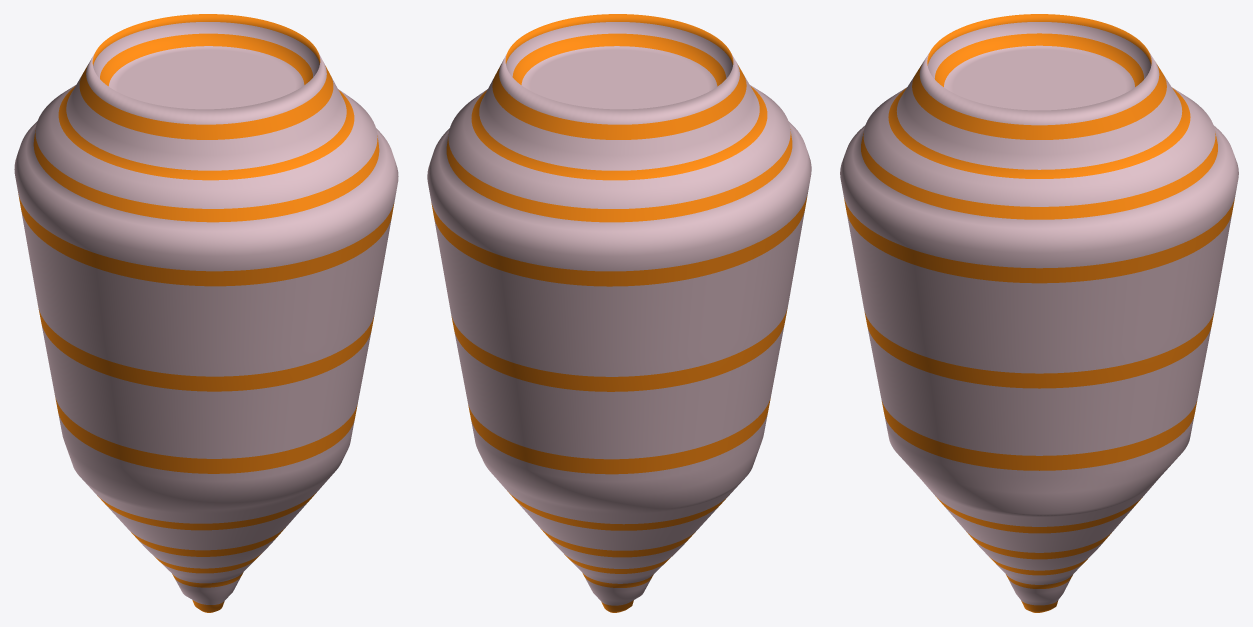
Rendered from body-o.gltf.
3 renders of one model, left to right at view 1: azimuth 30°, elevation 25°; view 2: azimuth 150°, elevation 25°; view 3: azimuth 270°, elevation 25°, orthographic.
Parts seen in each view (by area): view 1: Cylinder; view 2: Cylinder; view 3: Cylinder.
Boxes of the visible parts, x1=… form: Cylinder: x1=14, y1=14, x2=398, y2=612; Cylinder: x1=427, y1=14, x2=811, y2=612; Cylinder: x1=840, y1=14, x2=1238, y2=612.
Bounding box in the file's own units: 1.27 × 2.03 × 1.34.
